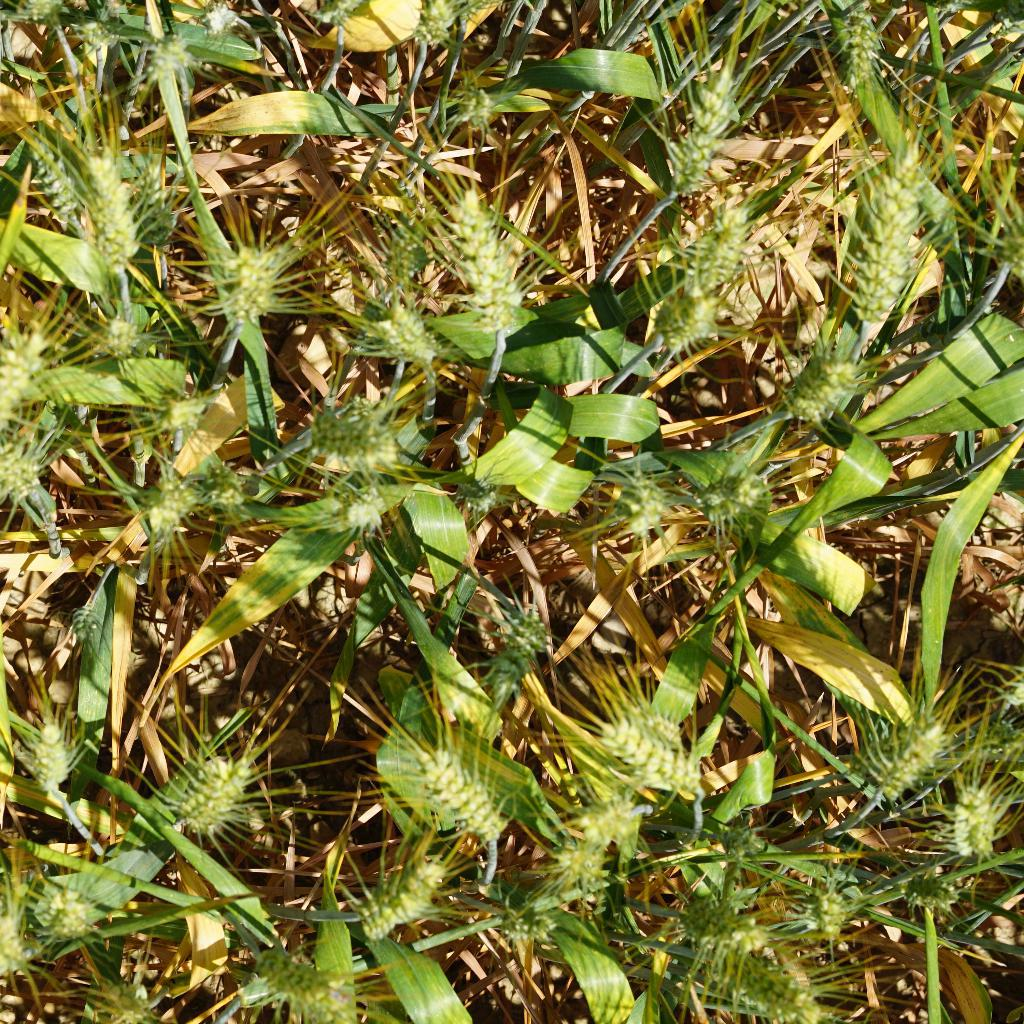0-0: (828, 145, 929, 348), (444, 165, 537, 344), (395, 729, 507, 847), (597, 687, 712, 795), (650, 55, 746, 183), (460, 585, 556, 707), (694, 934, 823, 1024), (343, 852, 451, 945), (165, 731, 254, 838), (249, 935, 354, 1024), (64, 138, 138, 260), (669, 193, 755, 295), (663, 891, 776, 965), (13, 125, 88, 235), (860, 709, 940, 807), (302, 403, 410, 474), (650, 279, 733, 366), (937, 773, 1006, 873), (555, 773, 645, 849), (366, 195, 433, 292), (788, 343, 856, 438), (701, 452, 778, 534), (538, 826, 615, 907), (0, 322, 51, 444), (365, 295, 437, 381), (18, 705, 78, 807), (128, 145, 181, 257), (817, 0, 888, 82), (215, 225, 275, 321), (133, 463, 202, 541), (197, 456, 261, 538), (798, 875, 863, 955), (26, 867, 94, 940), (447, 74, 512, 150), (608, 466, 679, 534), (894, 859, 967, 920), (329, 475, 393, 542), (86, 971, 161, 1024), (137, 30, 201, 92), (0, 888, 38, 978), (487, 902, 563, 946), (0, 438, 51, 503), (85, 308, 142, 365), (141, 387, 205, 436), (78, 11, 130, 64), (406, 0, 452, 58), (448, 472, 502, 518), (711, 819, 766, 863), (58, 601, 105, 648), (305, 0, 376, 27), (800, 1006, 901, 1024), (194, 3, 246, 37), (18, 0, 64, 34), (929, 0, 986, 21), (434, 0, 504, 15)
